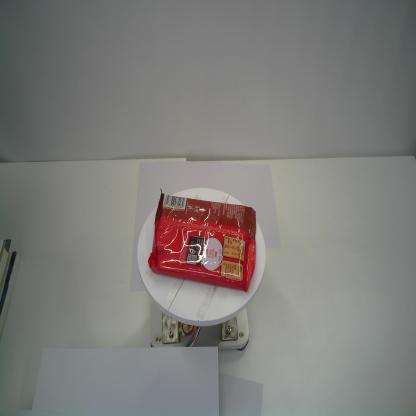Dessert: (147, 186, 258, 293)
